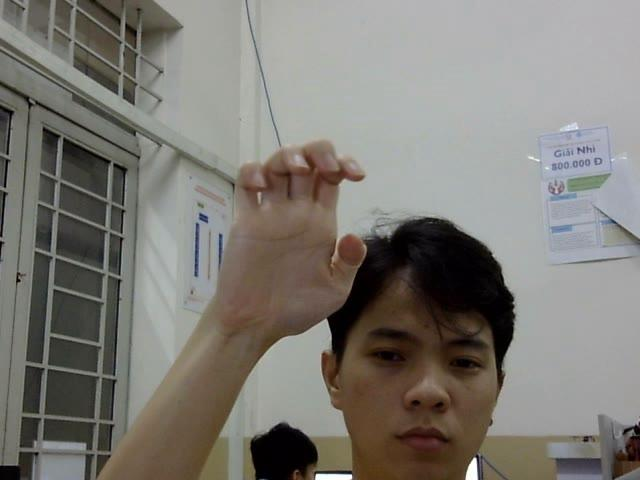E: (216, 138, 366, 334)
